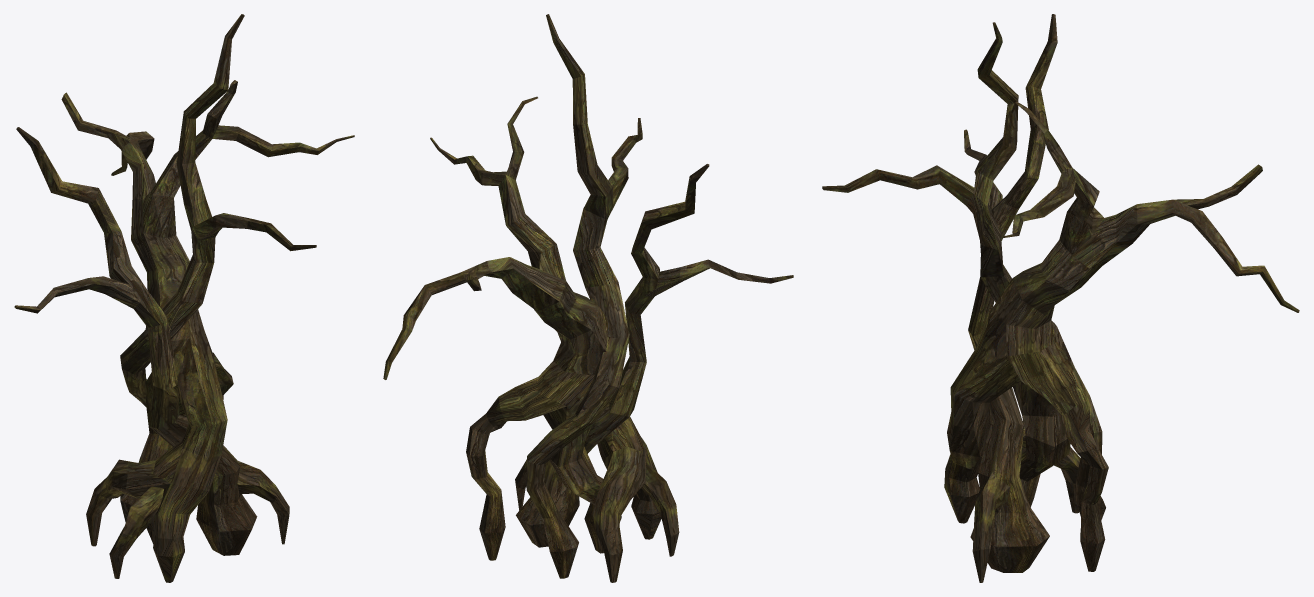
Rendered from 10104_Tree_K05.FBX.
3 views of the same model, side by side, from view 1: azimuth 30°, elevation 25°; view 2: azimuth 150°, elevation 25°; view 3: azimuth 270°, elevation 25° (orthographic). The views are drawn at different scales.
Visible parts, largest first — view 1: objtree04; view 2: objtree04; view 3: objtree04.
Part boxes in pixels (<box>): objtree04: <box>14,14,354,582</box>; objtree04: <box>383,14,793,582</box>; objtree04: <box>822,14,1299,582</box>.
Bounding box in the file's own units: 1224 × 1760 × 1386.
